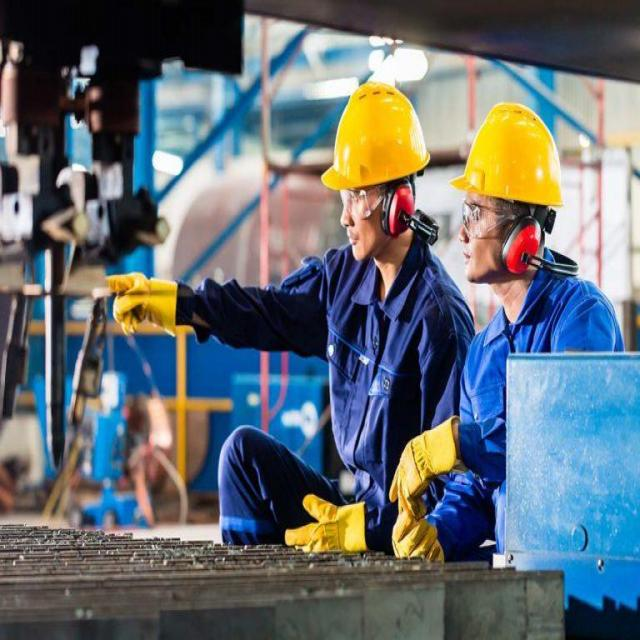Safety-Helmet: (319, 76, 432, 198), (450, 96, 568, 212)
